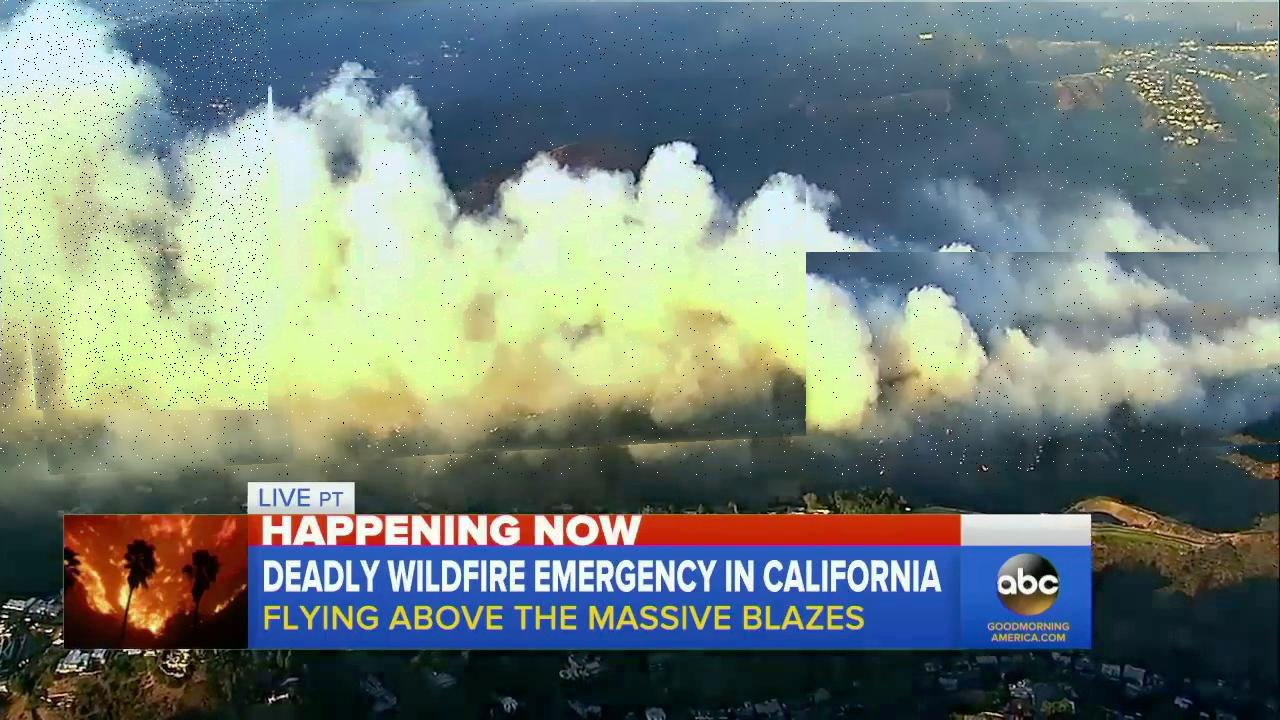smoke: (0, 2, 1278, 475), (271, 78, 806, 468), (0, 0, 268, 410), (803, 252, 1280, 465)
